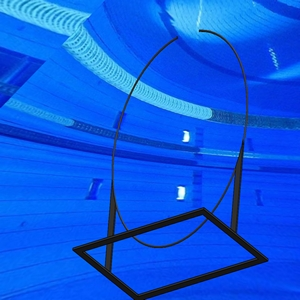circle: (70, 28, 270, 299)
